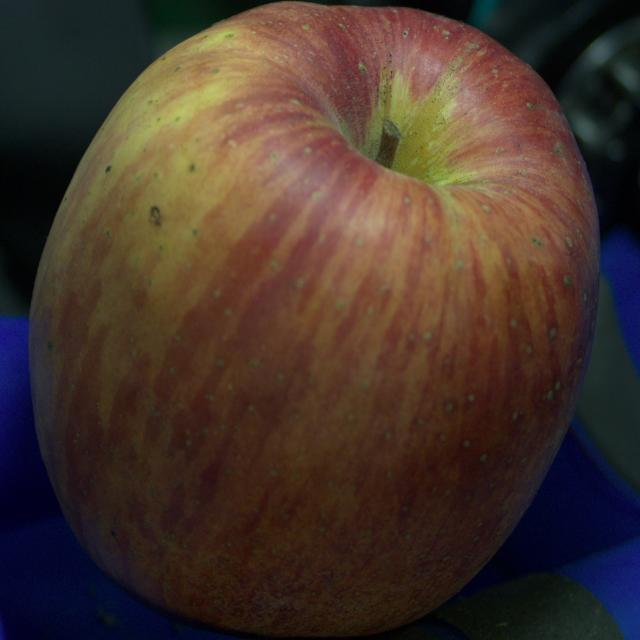apple: (29, 2, 599, 636)
pest: (149, 206, 161, 225), (105, 166, 111, 172), (111, 531, 116, 537)
